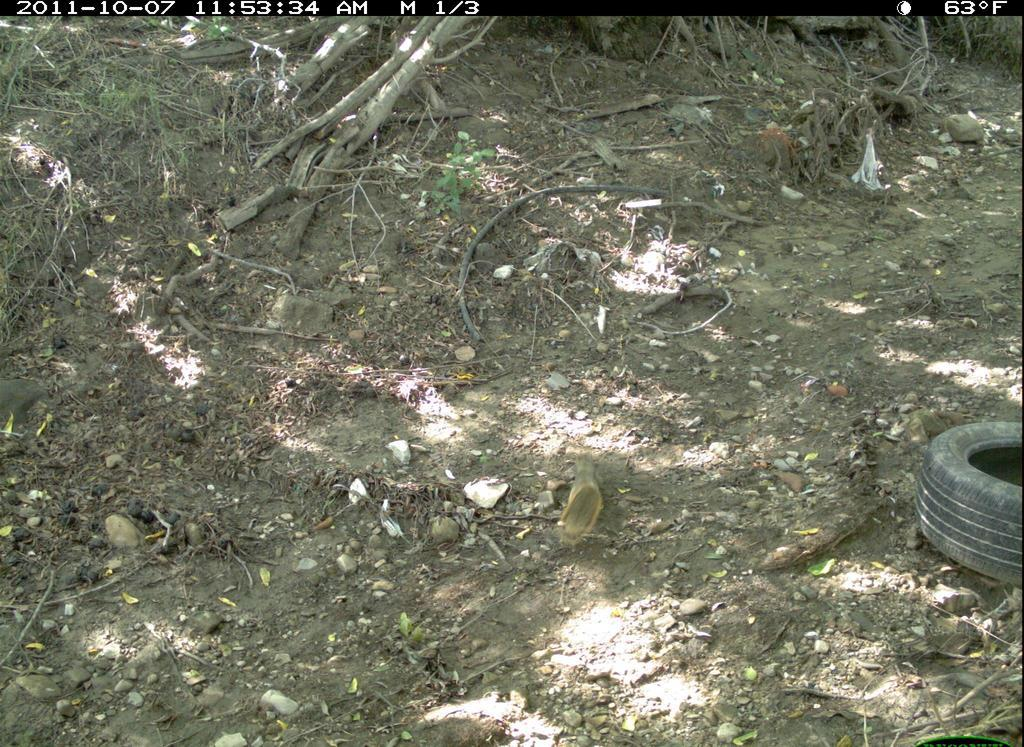squirrel: (559, 452, 605, 552)
